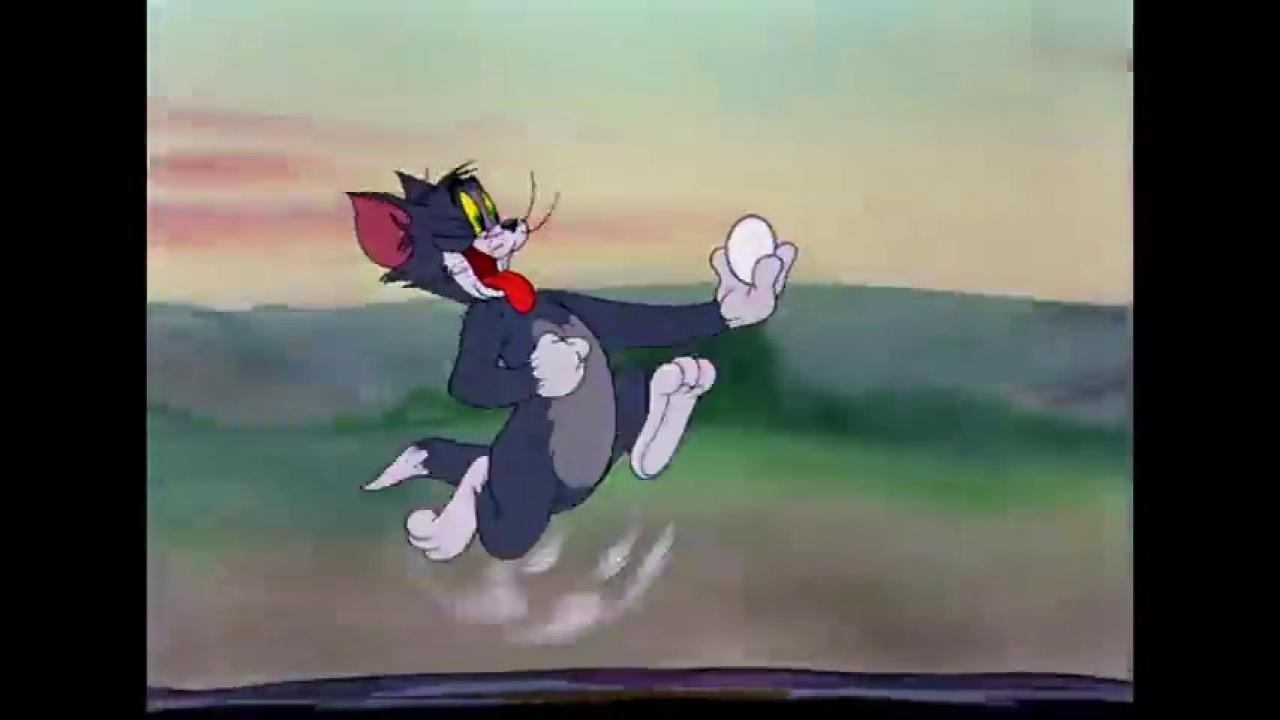Tom: (344, 165, 799, 567)
